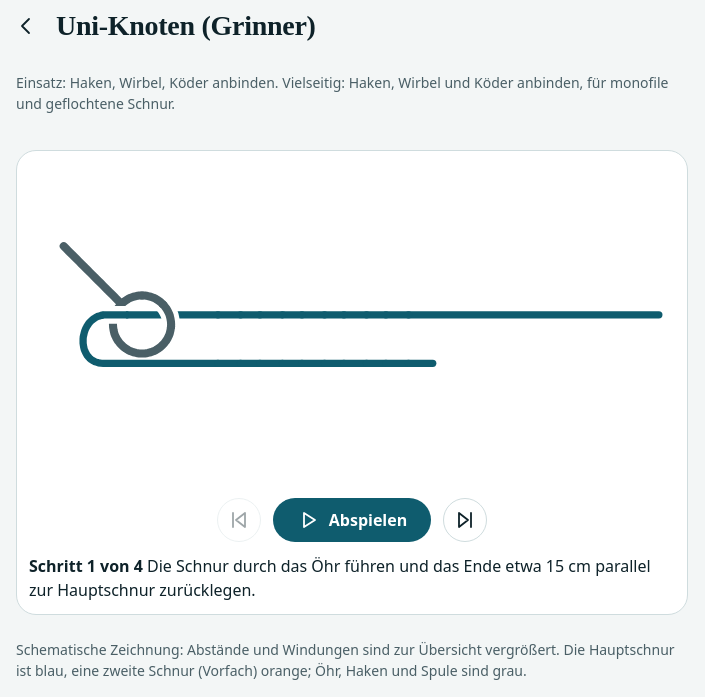
Test: Knoten-Anleitung (KNT-3) › Abspielen schaltet nach dem Zeichnen selbst weiter und hält am Ende an
Click the button "Abspielen" at (352, 520), box [273, 498, 431, 542]
Wait 70400 ms
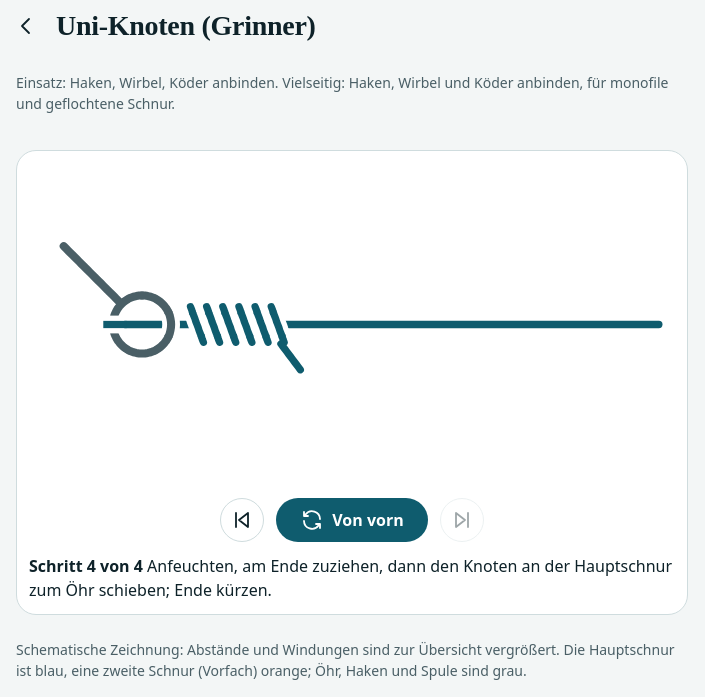
Check: the text "Schritt 4 von 4" is shown, box [29, 555, 143, 577]
Check: the button "Von vorn" is shown, box [276, 498, 428, 542]
